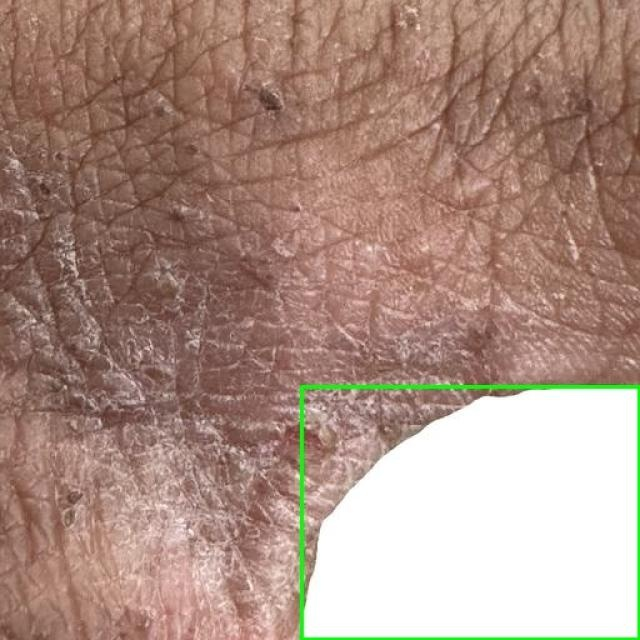Scabies: (301, 386, 639, 639)
